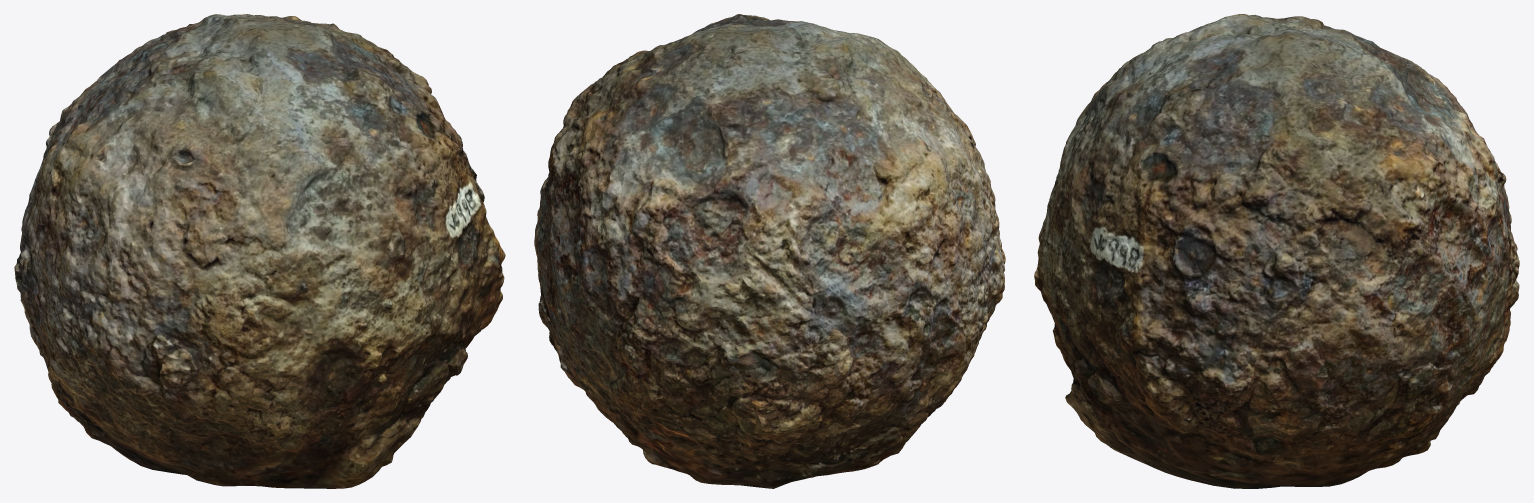
Rendered from Bala.glb.
3 views of the same model, side by side, from view 1: azimuth 30°, elevation 25°; view 2: azimuth 150°, elevation 25°; view 3: azimuth 270°, elevation 25° (orthographic). The views are drawn at different scales.
Size of the model in its own units: 0.4459 by 0.4335 by 0.4469.
Materials: 1 (1 with a texture image).
